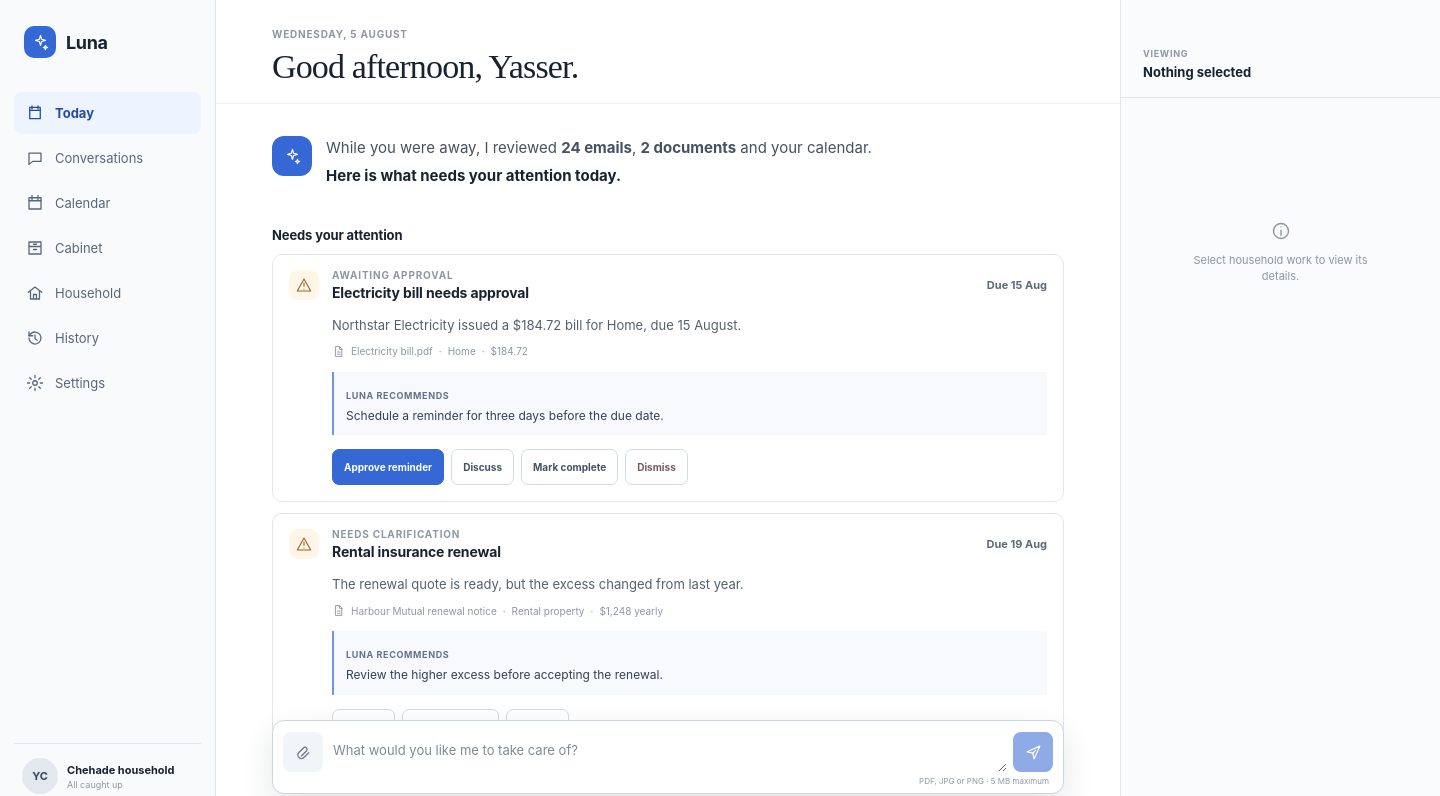
Test: production Today route › updates working context when household work is selected
The width and height of the screenshot is (1440, 796).
Click the button with aria-label "Open Rental insurance renewal" at (396, 534), box [273,514,1063,574]
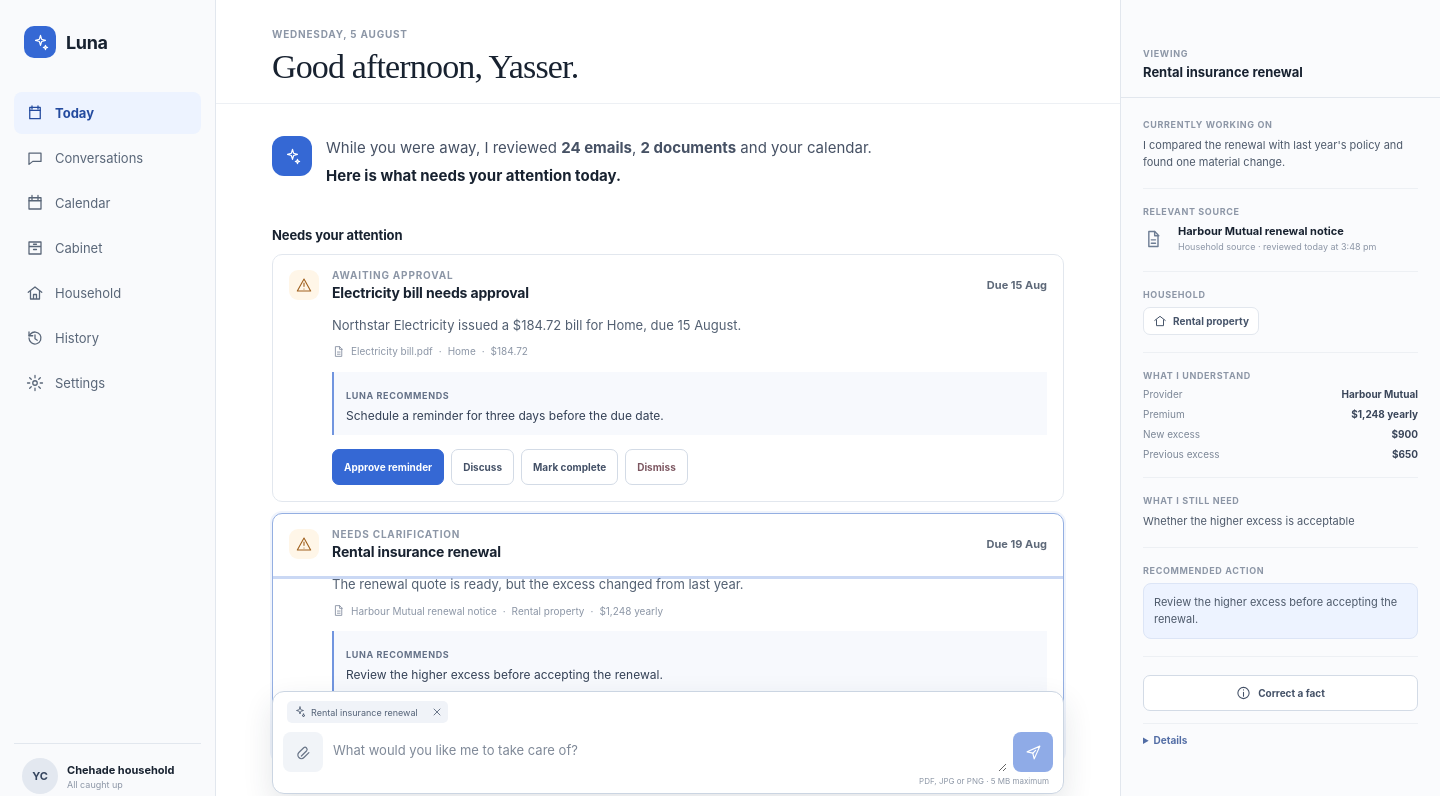
Result: the text "Rental insurance renewal" below "Viewing" is shown at [1143,64,1303,80]
Result: the text "Harbour Mutual" is shown at [1341,388,1418,400]
